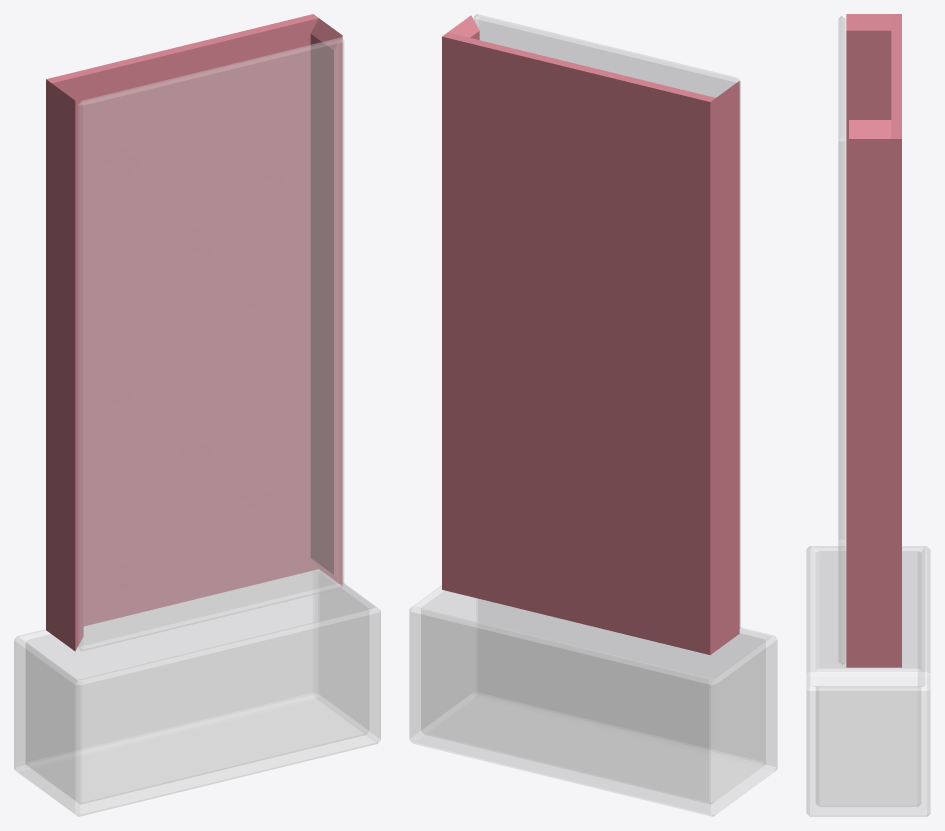
The model's file is plinko.glb.
The picture shows the model from 3 angles, left to right: view 1: azimuth 30°, elevation 25°; view 2: azimuth 150°, elevation 25°; view 3: azimuth 270°, elevation 25°; orthographic projection. The views are drawn at different scales.
Parts seen in each view (by area): view 1: plinko, wall, container; view 2: plinko, container, wall; view 3: plinko, container, wall.
Boxes of the visible parts, x1=… form: plinko: x1=46, y1=14, x2=342, y2=651; wall: x1=78, y1=37, x2=343, y2=651; container: x1=14, y1=569, x2=380, y2=816; plinko: x1=442, y1=15, x2=739, y2=654; container: x1=409, y1=585, x2=777, y2=816; wall: x1=474, y1=14, x2=740, y2=628; plinko: x1=846, y1=14, x2=901, y2=667; container: x1=806, y1=546, x2=930, y2=816; wall: x1=838, y1=16, x2=845, y2=664.
Size of the model in its own units: 9.28 by 20.27 by 3.41.
